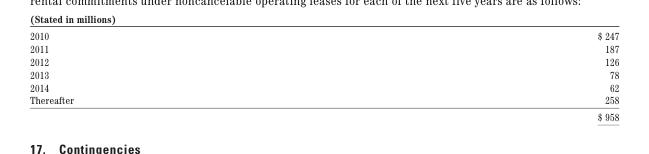table: (29, 29, 618, 122)
table column: (29, 29, 334, 122), (334, 29, 618, 122)
table row: (29, 93, 618, 108), (29, 108, 618, 122), (29, 41, 618, 54), (29, 54, 618, 67), (29, 67, 618, 80), (29, 80, 618, 93), (29, 29, 618, 41)
